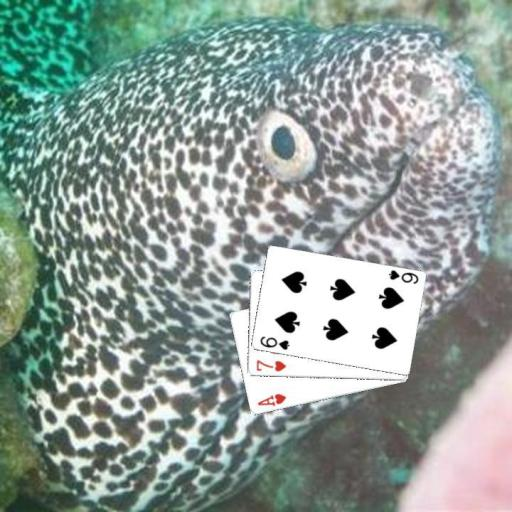6S: (257, 333, 291, 351), (386, 267, 420, 285)
7H: (253, 357, 287, 373)
AH: (254, 391, 287, 408)
